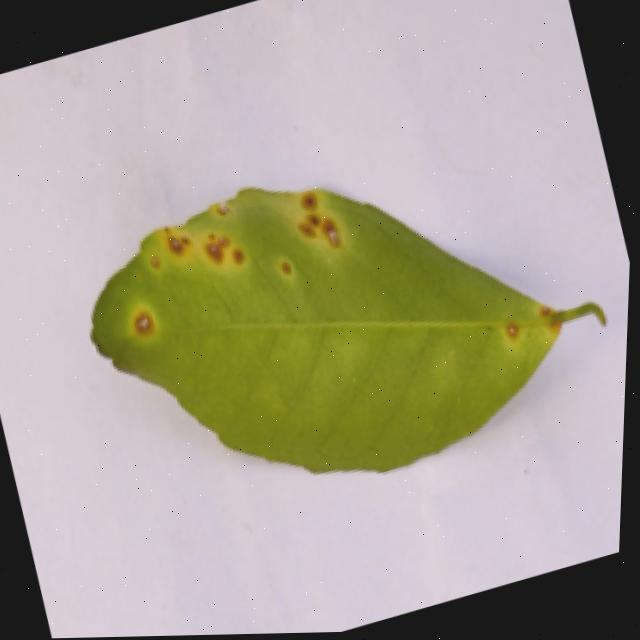canker: (98, 190, 602, 472), (97, 190, 349, 357), (494, 312, 530, 345)
